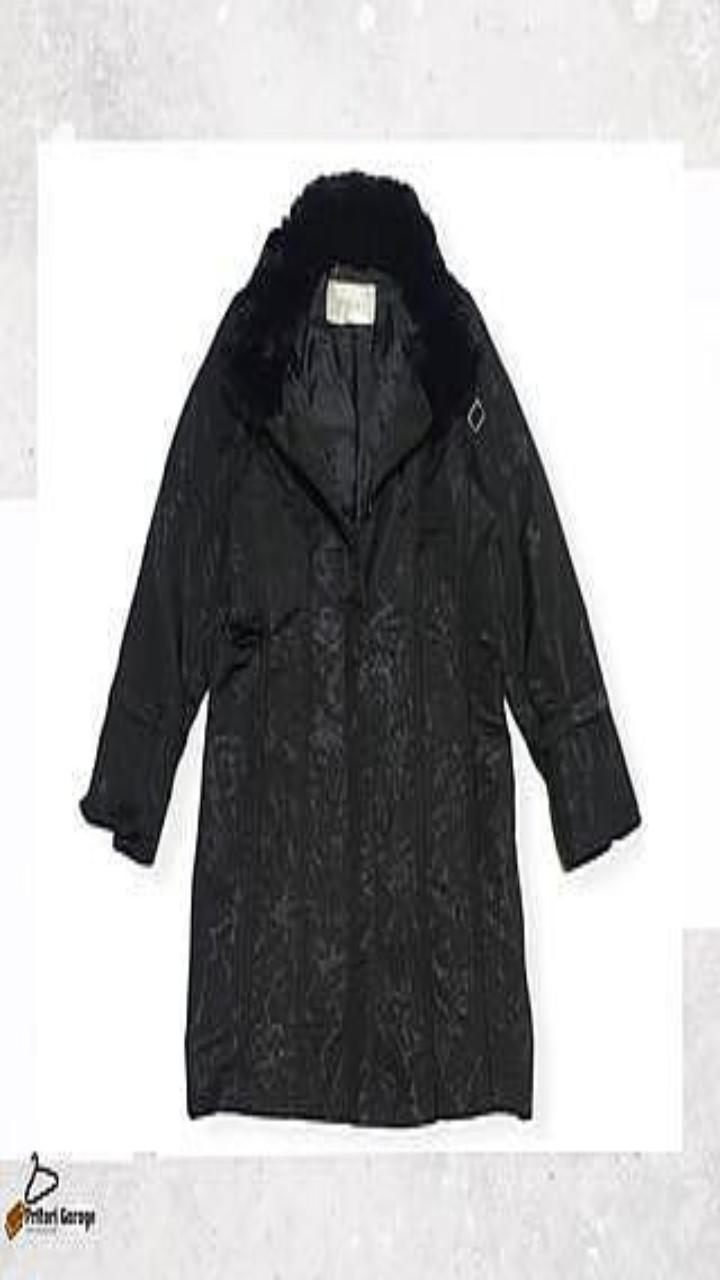Coat: (81, 170, 639, 1124)
